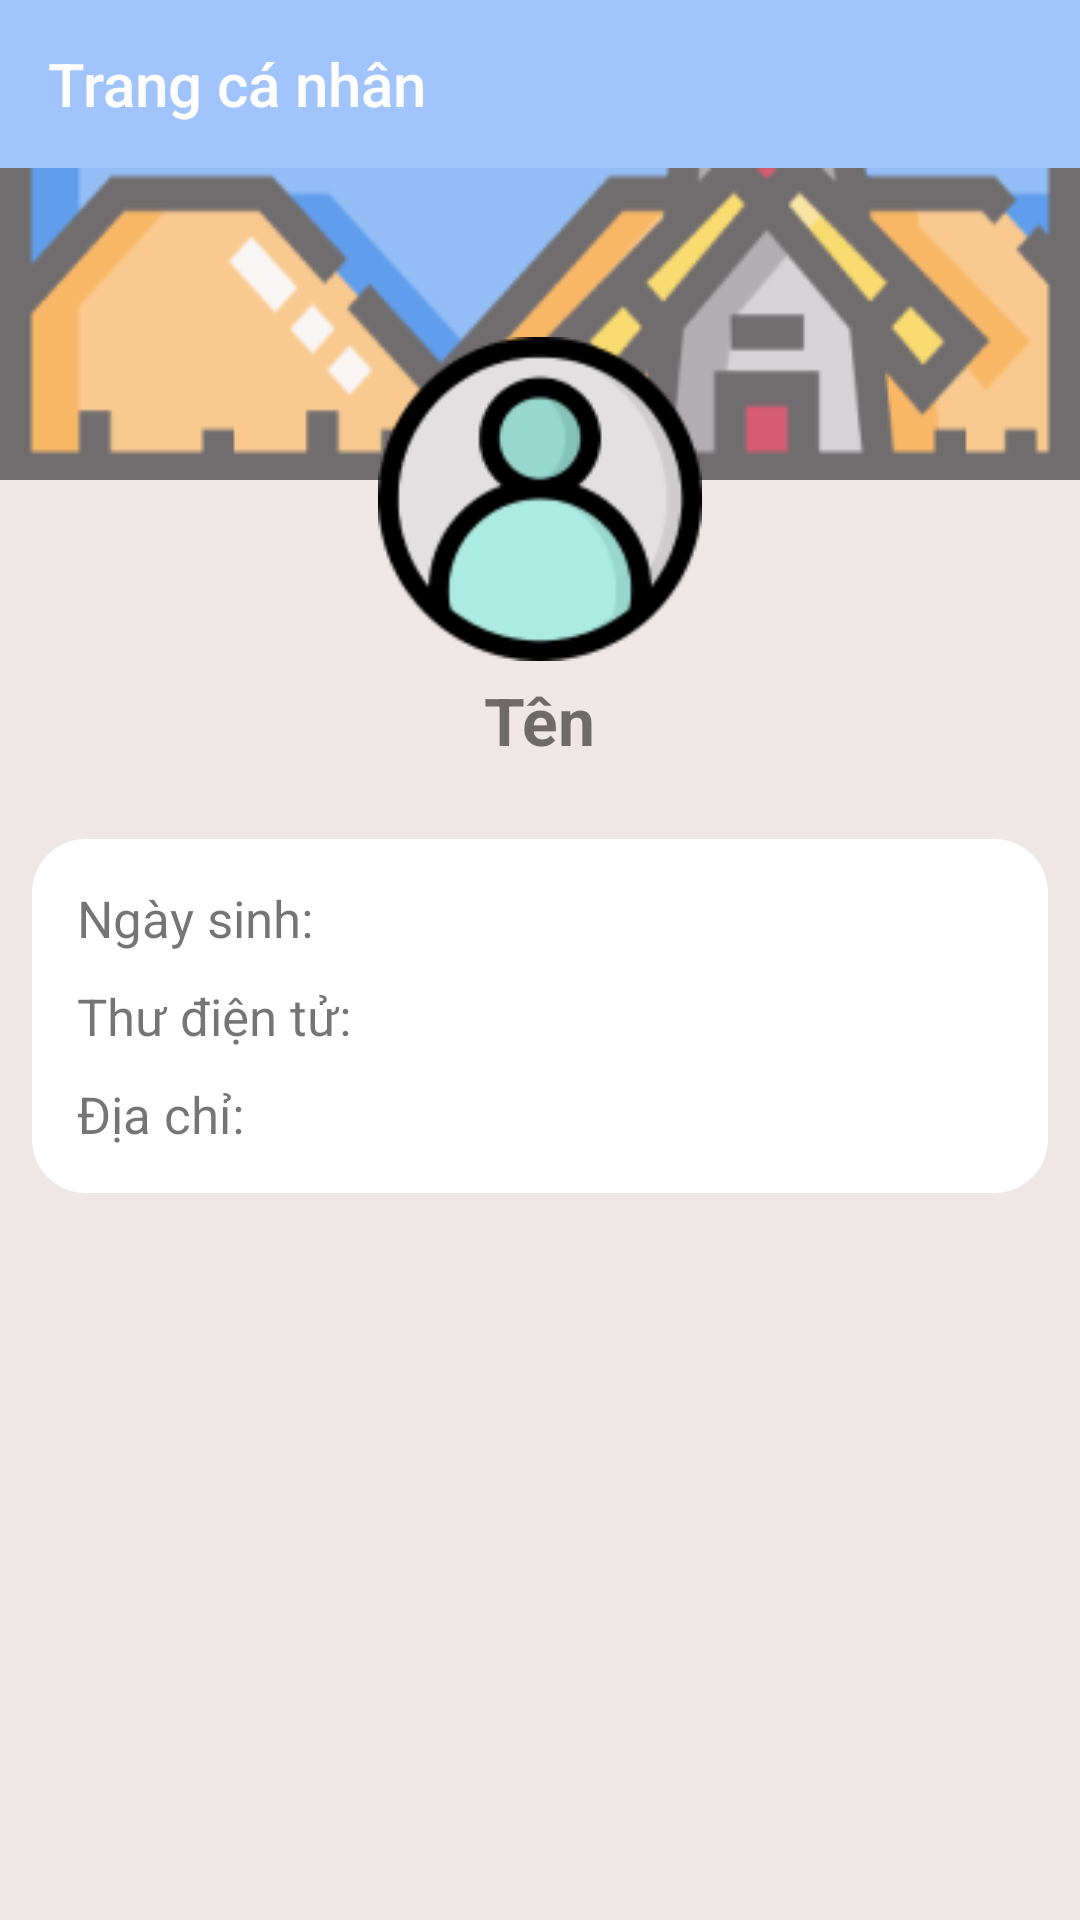

Screen size 1080 x 1920. Icon name, then its center in pixels as [x,y]:
profile: [540,499]
